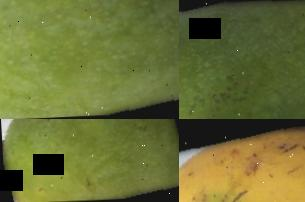Ripe: (179, 119, 305, 202)
Unripe: (0, 0, 179, 119), (179, 0, 305, 119), (0, 119, 179, 202)
